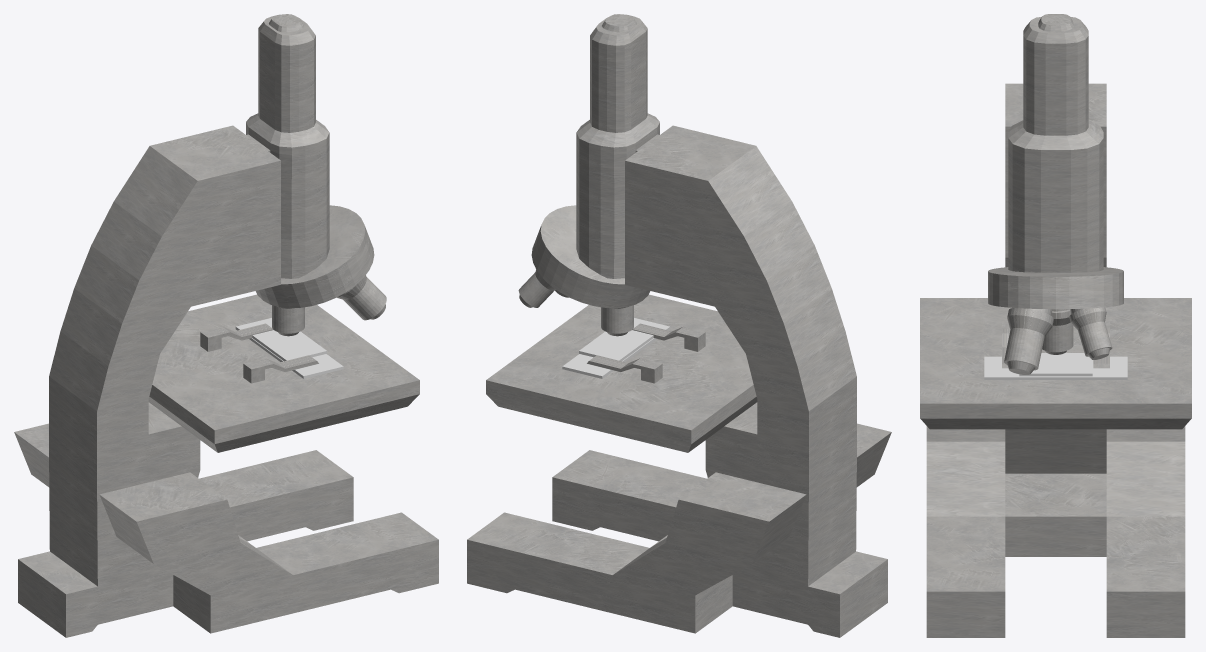
The model's file is microscope.fbx.
3 views of the same model, side by side, from view 1: azimuth 30°, elevation 25°; view 2: azimuth 150°, elevation 25°; view 3: azimuth 270°, elevation 25° (orthographic). The views are drawn at different scales.
Parts seen in each view (by area): view 1: Microscope, Turnything, Slide, Cube.001, Cube; view 2: Microscope, Turnything, Slide, Cube, Cube.001; view 3: Microscope, Turnything, Slide.
Boxes of the visible parts, x1,y1,x2,y2 form: Microscope: [14, 14, 438, 637]; Turnything: [255, 205, 386, 336]; Slide: [235, 318, 343, 378]; Cube.001: [243, 355, 318, 383]; Cube: [200, 323, 273, 351]; Microscope: [467, 14, 891, 637]; Turnything: [518, 205, 650, 336]; Slide: [562, 318, 670, 378]; Cube: [587, 355, 662, 383]; Cube.001: [632, 323, 705, 351]; Microscope: [920, 14, 1191, 637]; Turnything: [988, 267, 1123, 374]; Slide: [984, 353, 1127, 379].
Bounding box in the file's own units: 269 × 414 × 178.
8 materials, 7 textured.
